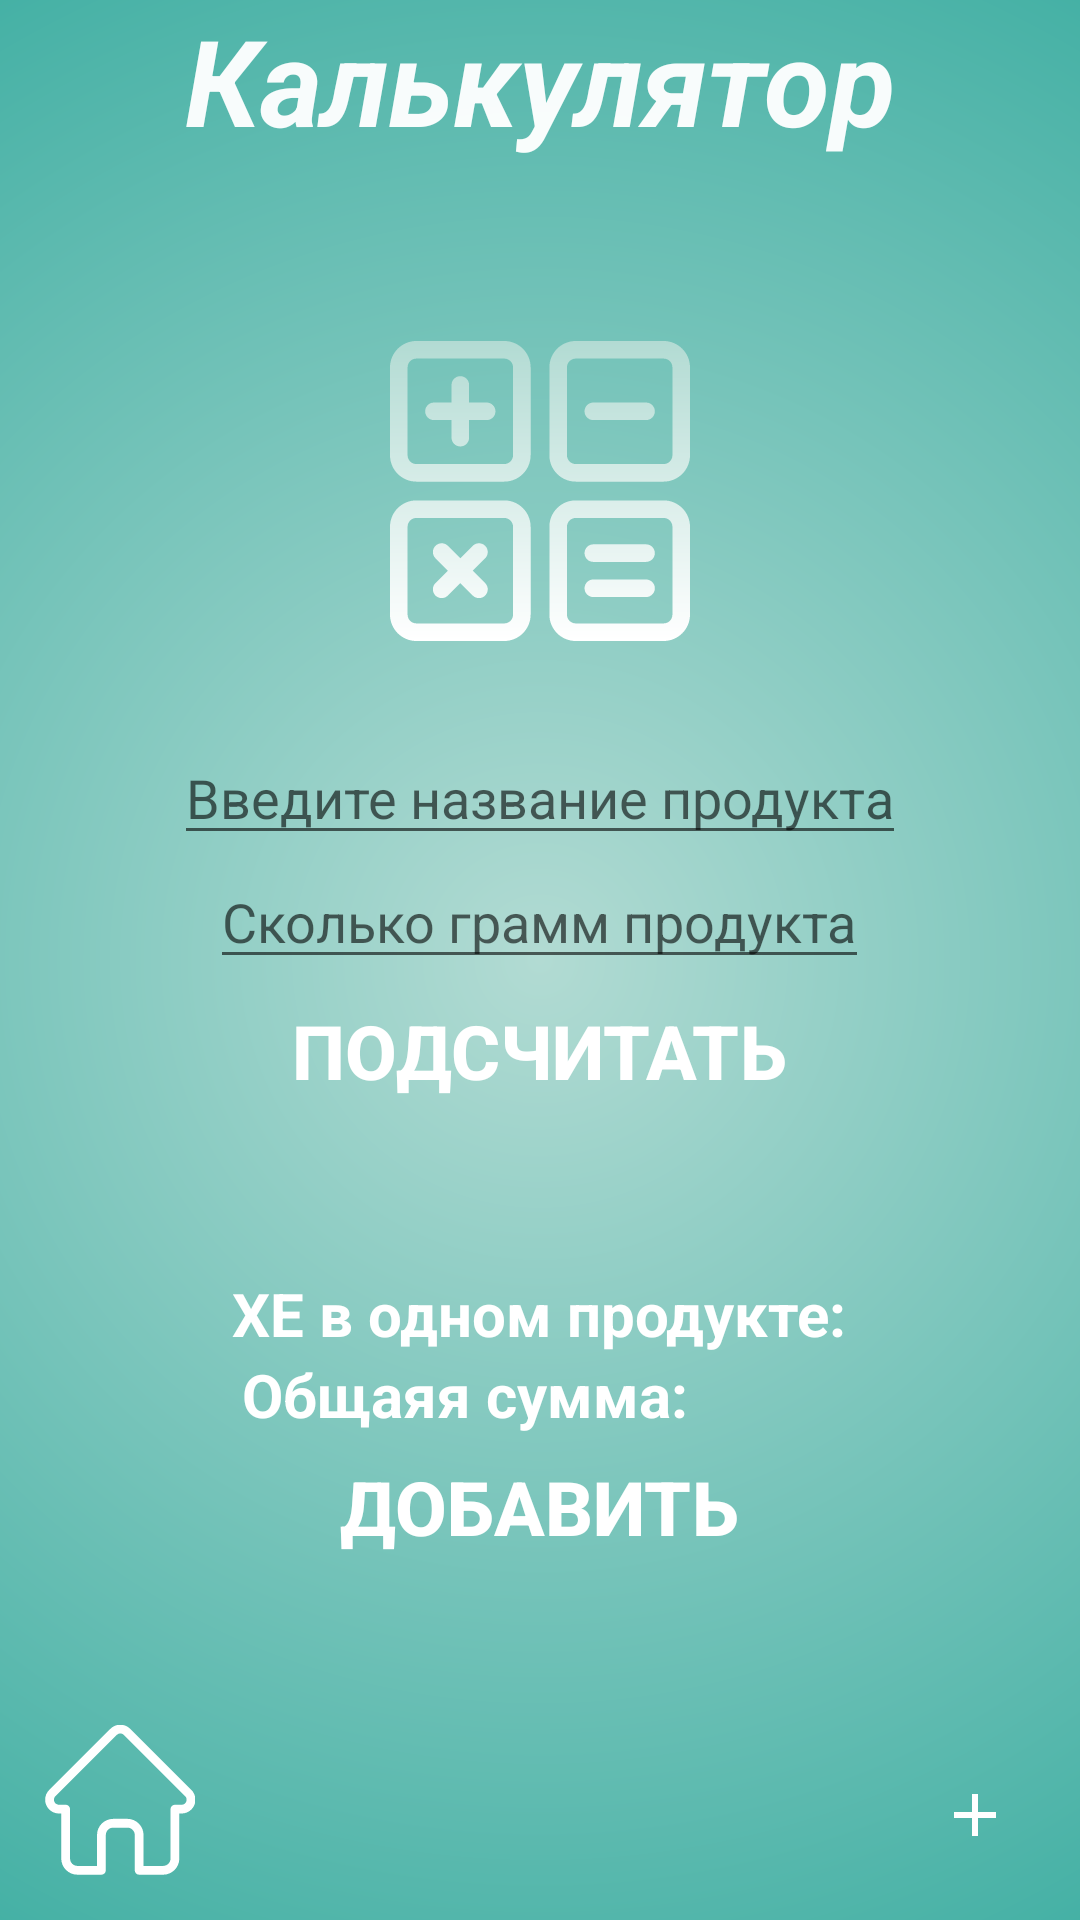

Where icons sit on this 1080 x 1920 app screen, as (x1, y1, x2, y2):
add diary: (954, 1794, 996, 1836)
calc: (390, 341, 690, 641)
home: (45, 1725, 195, 1875)
